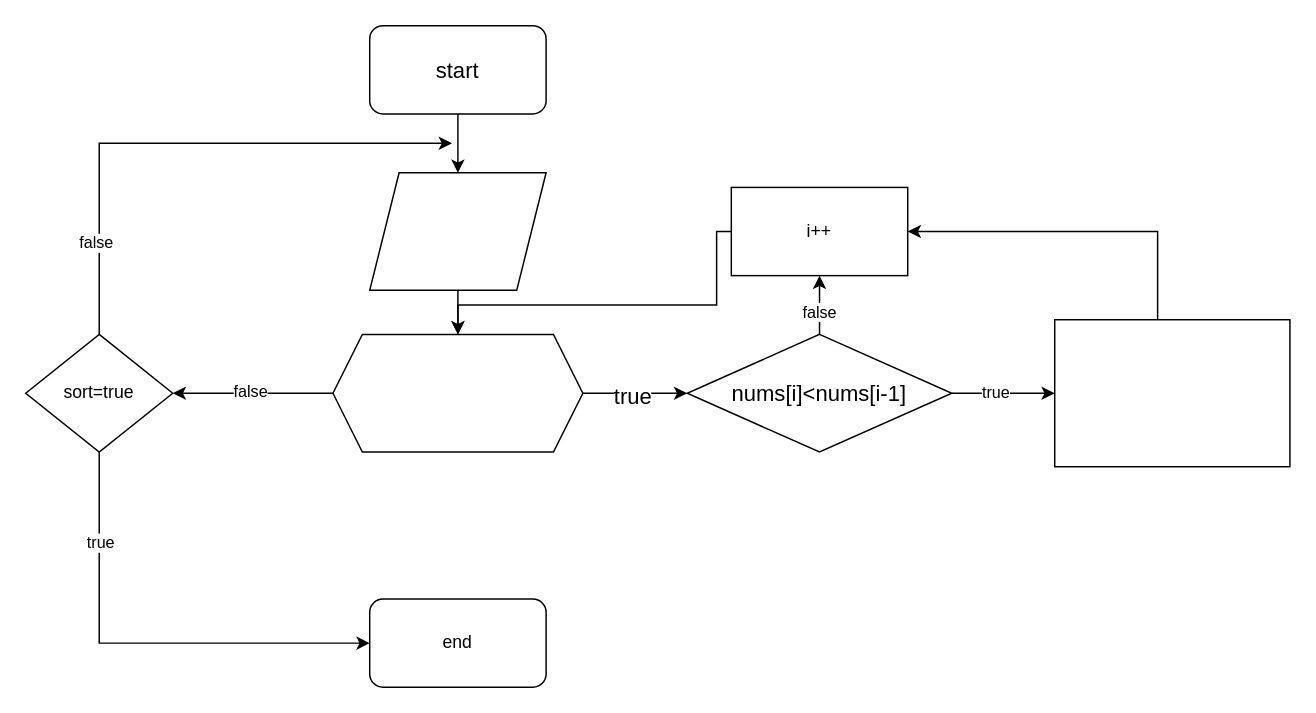
Some shapes in this 1316 by 713 pixel diagram are drawn without their labels. Each missing label, with the centre of its shape:
i<nums.length: point (457, 392)
let temp = nums[i]; nums[i] = nums[i-1]; nums[i-1] = temp;: point (1171, 392)
nums[] i=1 temp sort=false: point (457, 230)
